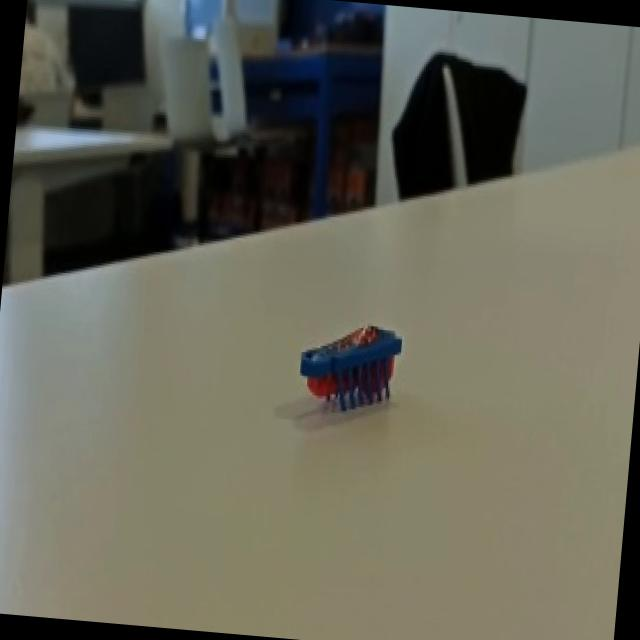1_NanoBug_Azul: (260, 289, 448, 454)
